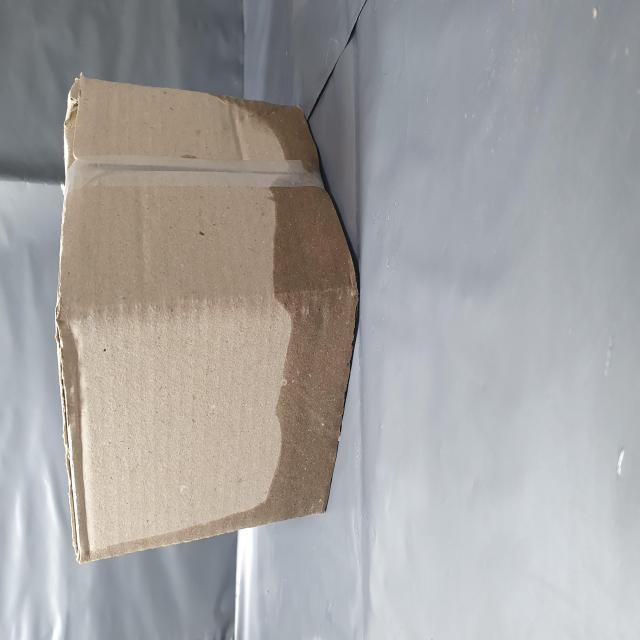wet: (59, 386, 319, 640)
